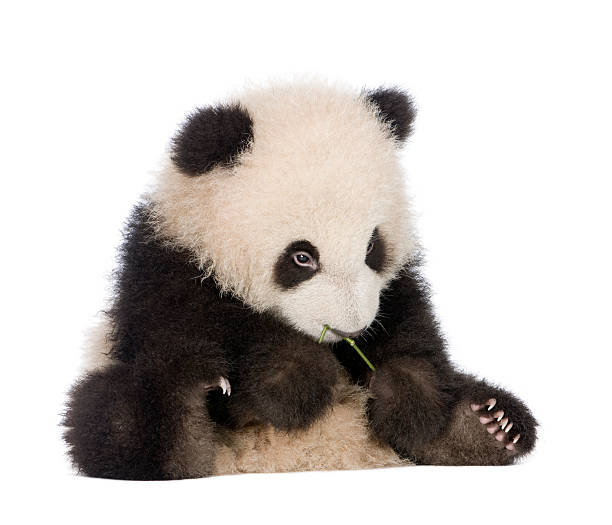panda: (136, 63, 446, 381)
